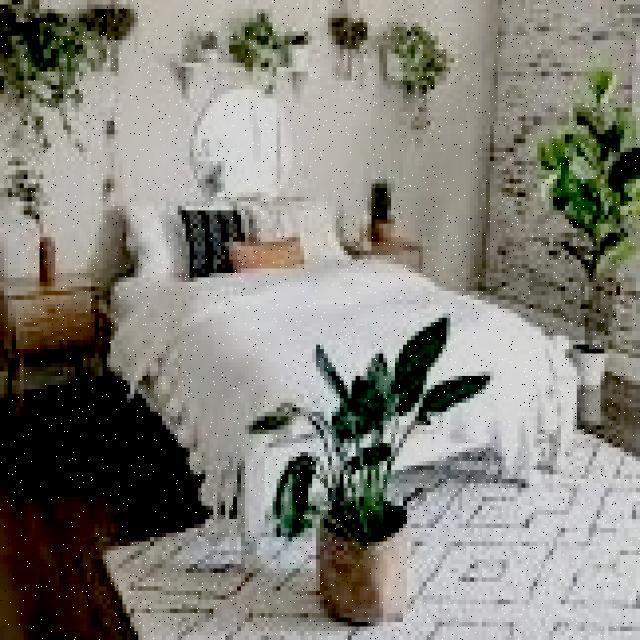bed: (119, 194, 566, 435)
